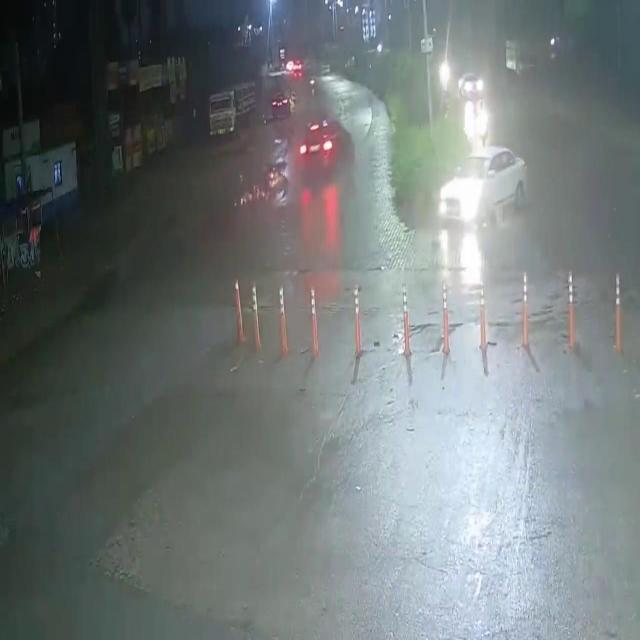accident: (232, 154, 290, 218)
